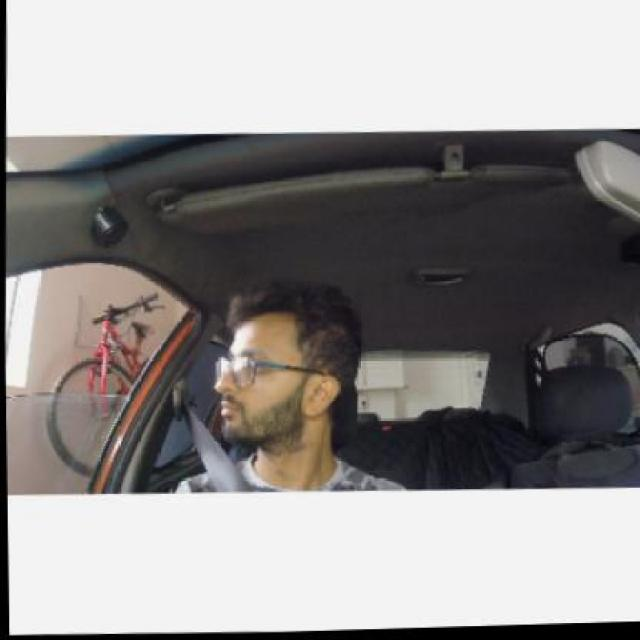LeftRight: (210, 302, 357, 435)
